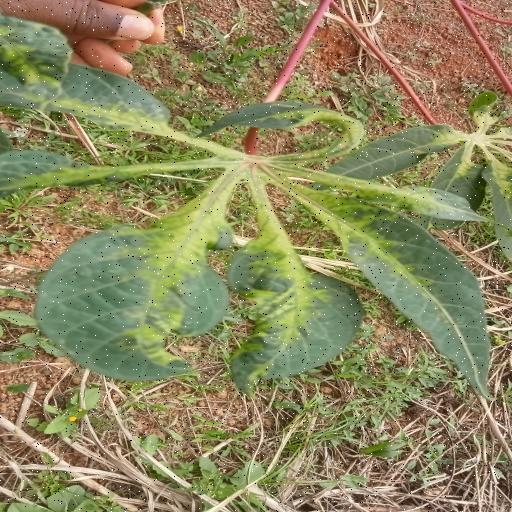Cassava_Mosaic: (1, 74, 512, 390)
